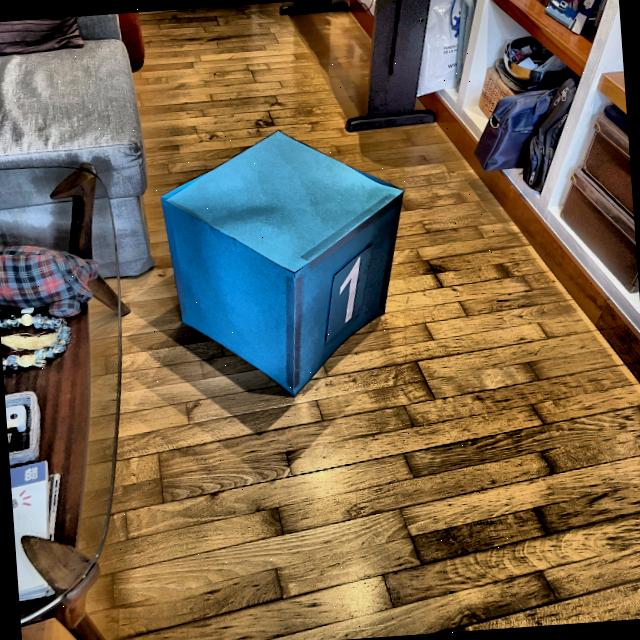blue box: (153, 118, 418, 410)
one: (332, 254, 369, 326)
